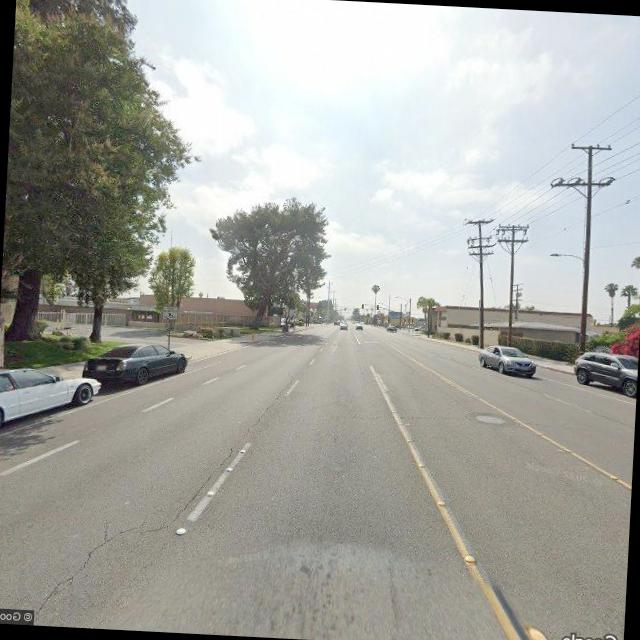pothole: (31, 512, 158, 624)
